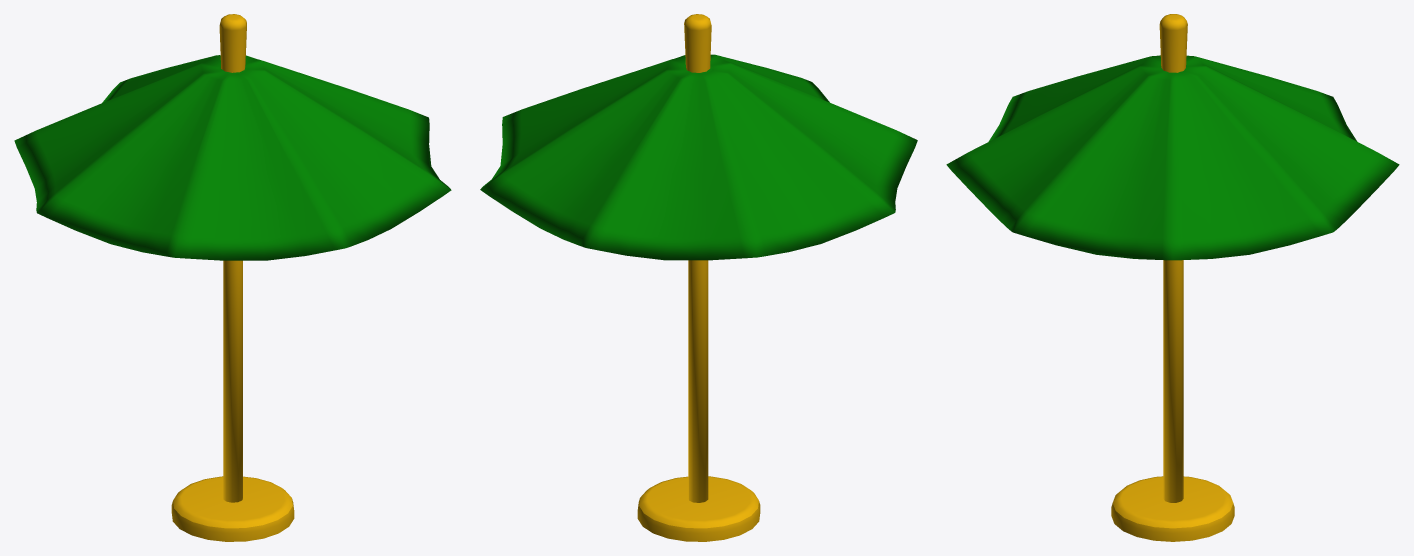
Rendered from cocktail_plunger.fbx.
3 renders of one model, left to right at view 1: azimuth 30°, elevation 25°; view 2: azimuth 150°, elevation 25°; view 3: azimuth 270°, elevation 25°, orthographic.
Visible parts, largest first — view 1: cocktail_plunger; view 2: cocktail_plunger; view 3: cocktail_plunger.
Boxes of the visible parts, x1,y1,x2,y2 form: cocktail_plunger: (14, 14, 451, 541); cocktail_plunger: (480, 14, 917, 541); cocktail_plunger: (946, 14, 1399, 541).
Size of the model in its own units: 0.4687 by 0.5694 by 0.4687.
